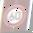Speed Limit -60-: (1, 3, 26, 27)
